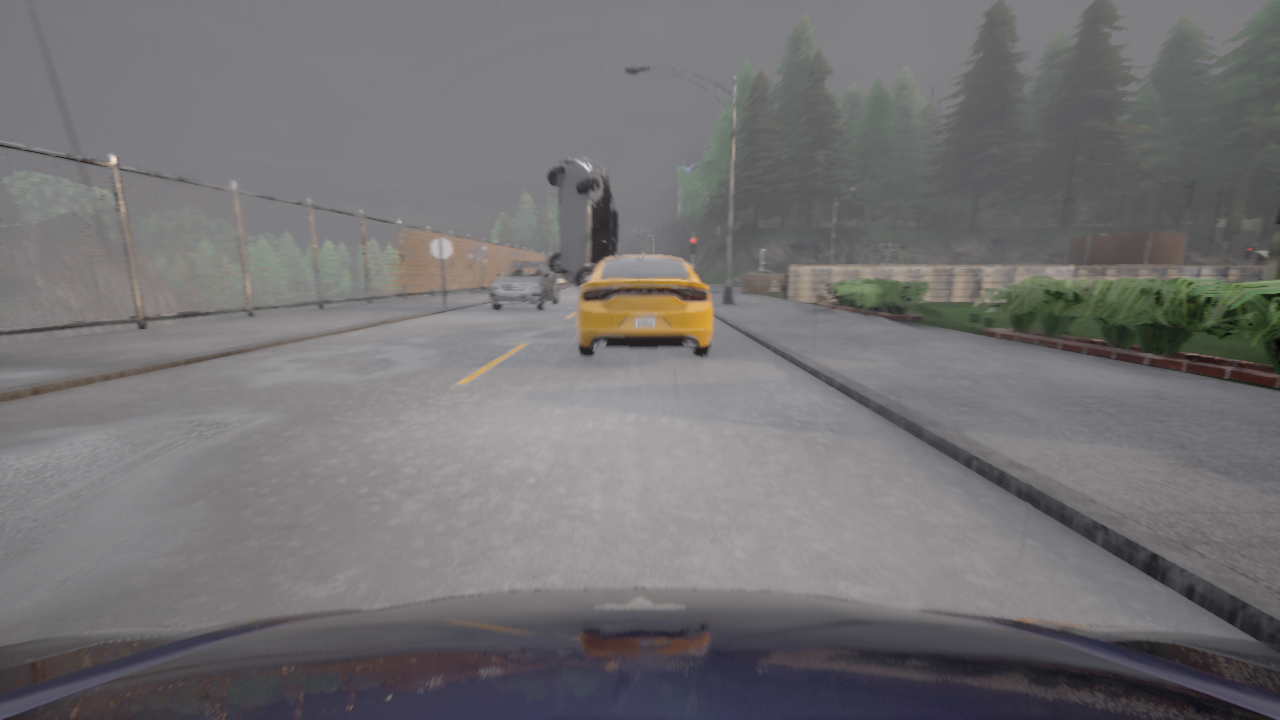cyclist: (0, 588, 1279, 719), (576, 251, 712, 355), (547, 156, 618, 290), (489, 262, 559, 309), (731, 270, 776, 286)
